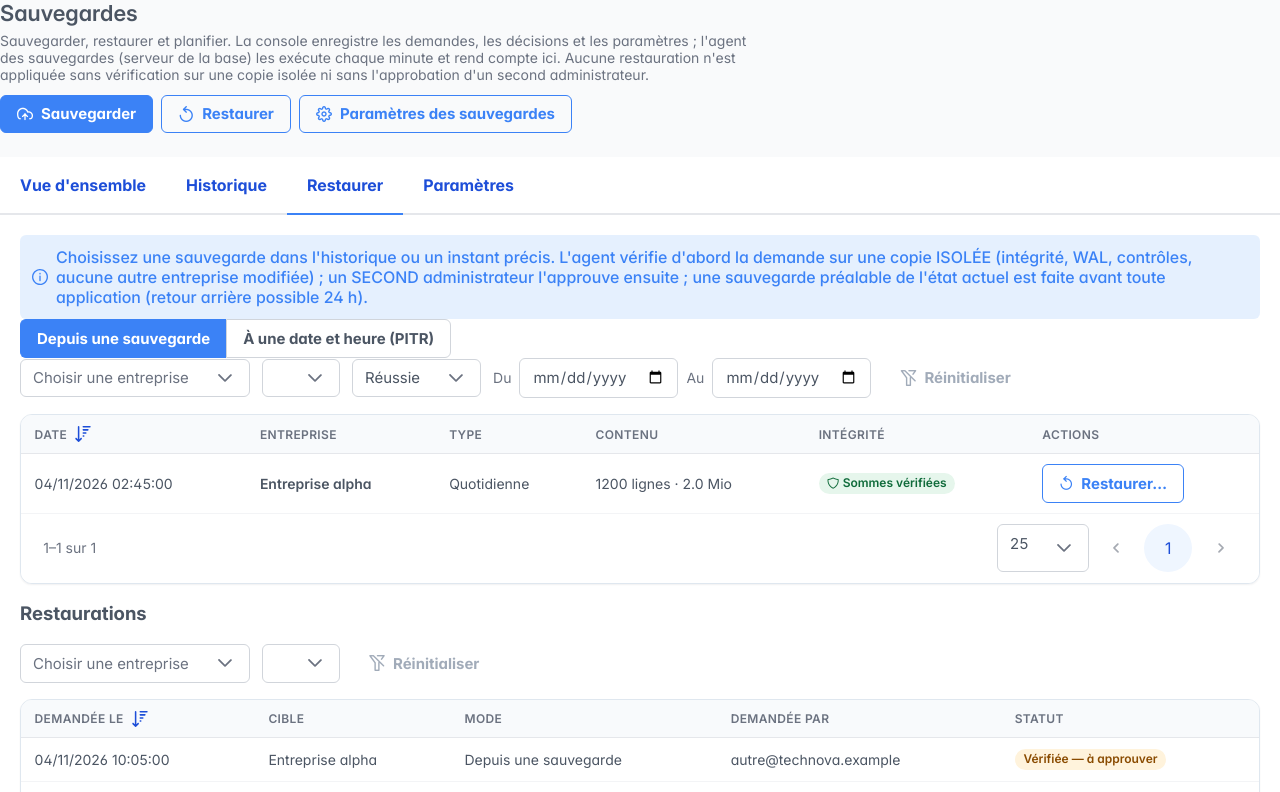
Test: console — Sauvegarder, Restaurer, Paramètres › Restaurer : sauvegarde choisie dans l’historique, raison obligatoire, demande envoyée
Click the button with test id "restore-item-item-1" at {"x": 1113, "y": 484}, box [1042, 464, 1184, 503]
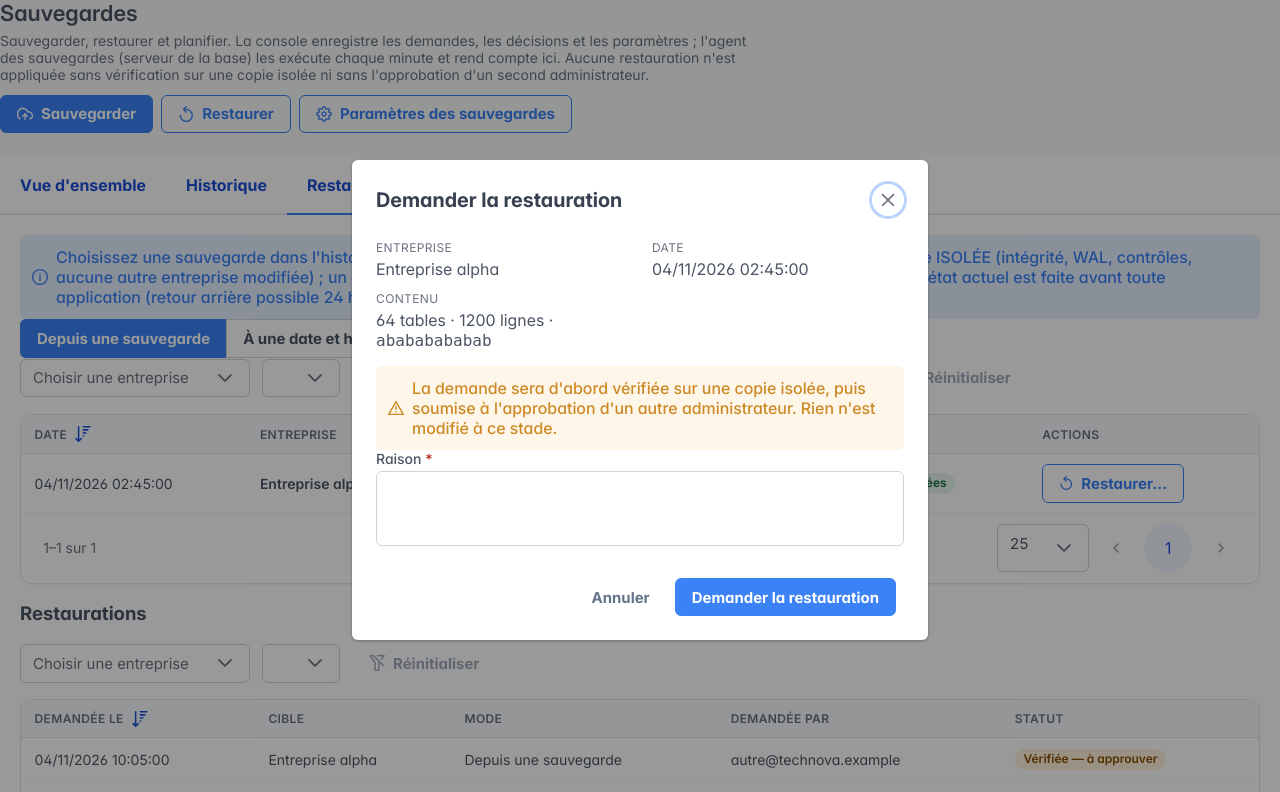
Click the button with test id "reason-accept" at {"x": 785, "y": 597}, box [675, 578, 896, 616]
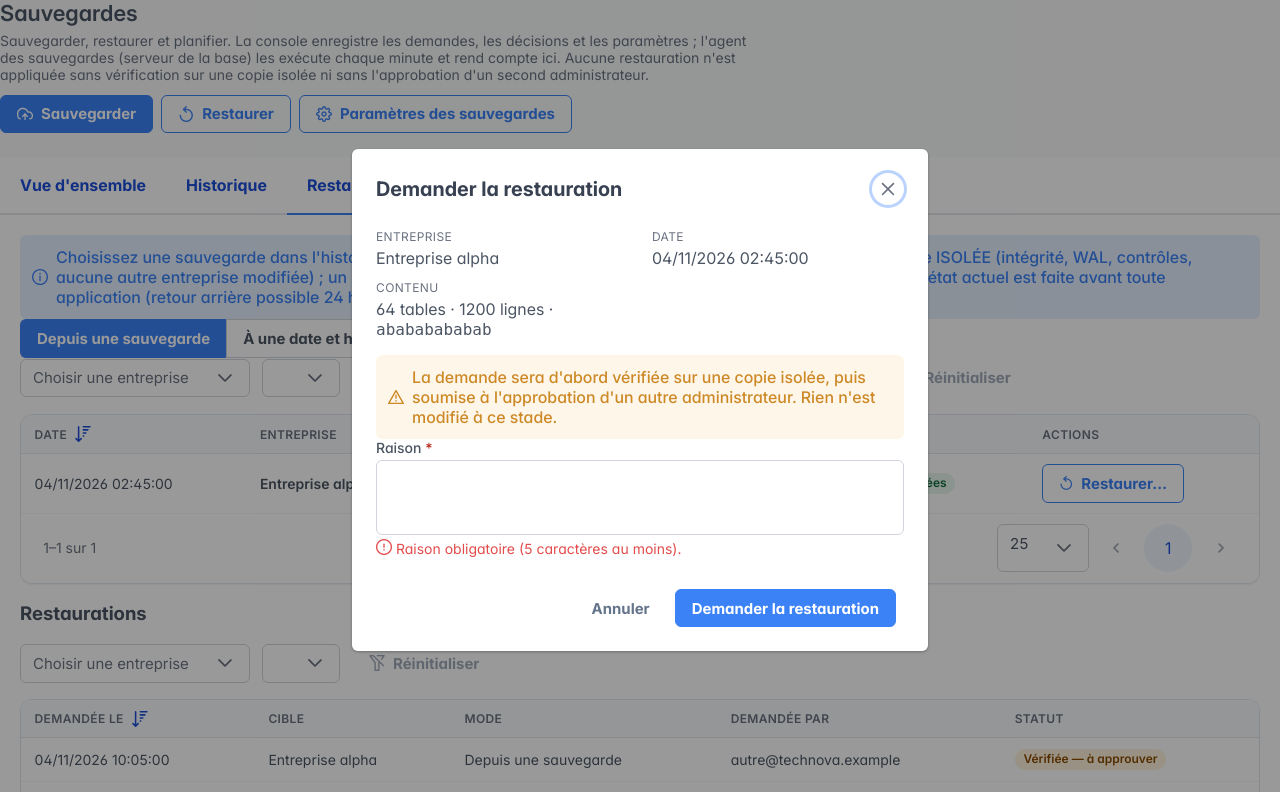
Result: the text "Raison obligatoire (5 caractères au moins)." is shown at [376, 539, 682, 557]
Type "Erreur de saisie massive" into the text box with test id "decision-reason" at {"x": 640, "y": 497}, box [376, 460, 904, 535]
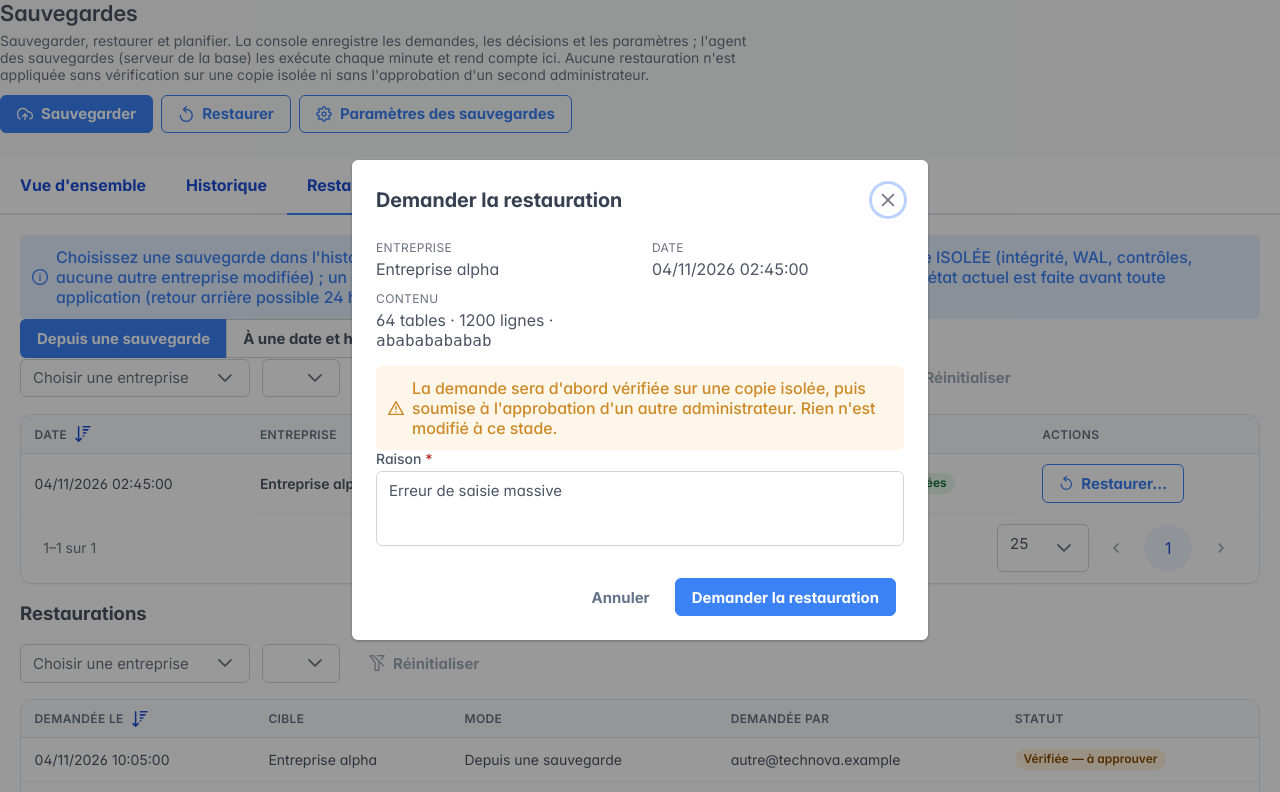
Click the button with test id "reason-accept" at {"x": 785, "y": 597}, box [675, 578, 896, 616]
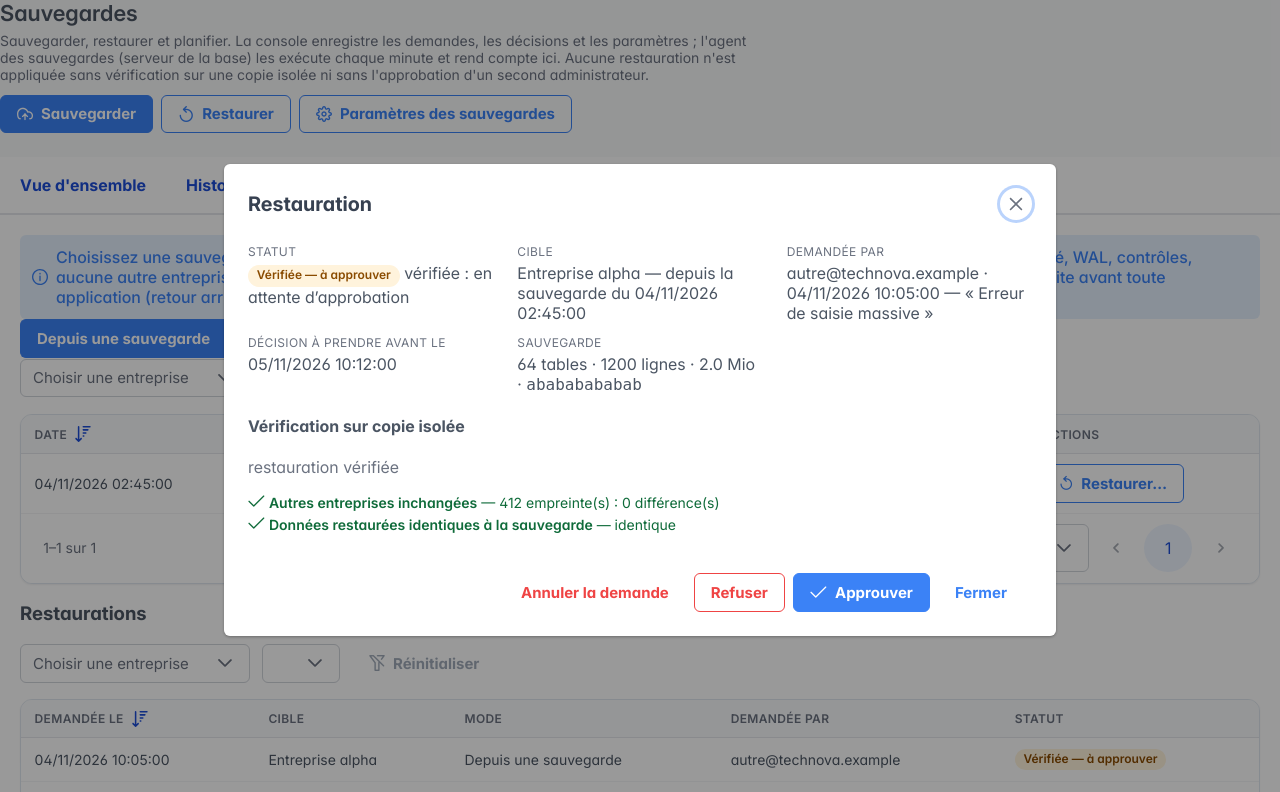
Result: the element with test id "report-copy" shows "Autres entreprises inchangées" at [269, 494, 477, 511]
